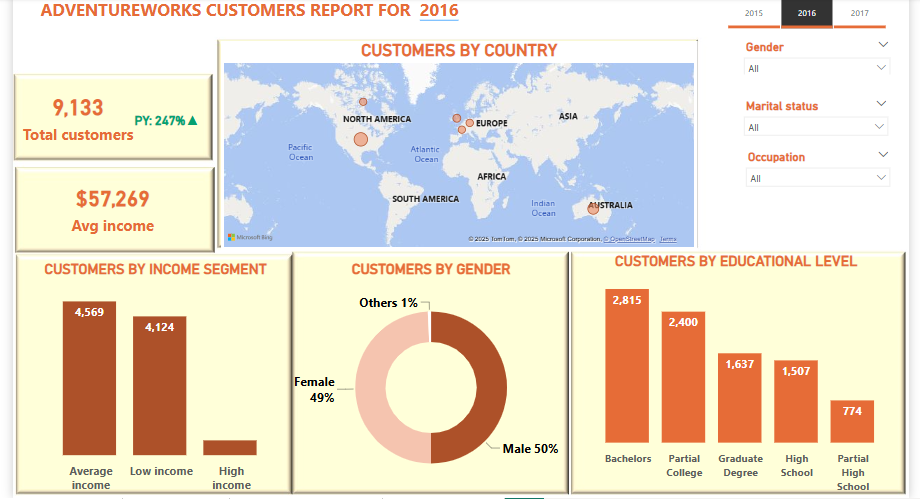

What the dashboard file says about the page in this screenshot:
{"tool":"powerbi","page":{"name":"Customers Report","canvas":[1280,720],"ordinal":0},"visuals":[{"type":"card","fields":{"Values":["DAX Measures.Total customers"]},"box":[0,115.2,185.8,115.2],"z":0},{"type":"card","fields":{"Values":["DAX Measures.Avg income"]},"box":[0,249.1,285.1,110.9],"z":1000},{"type":"slicer","fields":{"Values":["Calendar.Year"]},"box":[995,0,275,56.2],"z":2000},{"type":"card","fields":{"Values":["DAX Measures.Customer growth %"]},"box":[142.6,139.7,154.1,82.1],"z":3000},{"type":"map","title":"CUSTOMERS BY COUNTRY","fields":{"Size":["DAX Measures.Total customers"],"Category":["AdventureWorks_Territories.Country"]},"box":[296.6,67.7,681.1,299.5],"z":4000},{"type":"columnChart","title":"CUSTOMERS BY INCOME SEGMENT","fields":{"Y":["DAX Measures.Total customers"],"Category":["AdventureWorks_Customers.IncomeSegment"]},"box":[10.1,381.6,387.4,338.4],"z":5000},{"type":"columnChart","title":"CUSTOMERS BY EDUCATIONAL LEVEL","fields":{"Category":["AdventureWorks_Customers.EducationalLevel"],"Y":["DAX Measures.Total customers"]},"box":[797.8,370.1,472.3,349.9],"z":6000},{"type":"donutChart","title":"CUSTOMERS BY GENDER","fields":{"Category":["AdventureWorks_Customers.Gender"],"Y":["DAX Measures.Total customers"]},"box":[397.4,381.6,400.3,338.4],"z":7000},{"type":"slicer","fields":{"Values":["AdventureWorks_Customers.Gender"]},"box":[1033.9,60.5,229,54.7],"z":8000},{"type":"slicer","fields":{"Values":["AdventureWorks_Customers.MaritalStatus"]},"box":[1033.9,144,226.1,57.6],"z":9000},{"type":"slicer","fields":{"Values":["AdventureWorks_Customers.Occupation"]},"box":[1036.8,217.4,226.1,63.4],"z":10000},{"type":"textbox","box":[34.6,0,727.2,56.2],"z":11000}]}

Visuals, with their boxes on the page's 1280x720 design canvas (x1, y1, x2, y2). These are canvas units, not pixel positions in the 920x499 screenshot, which may show the page scaled, cropped or inside an application window:
card - DAX Measures.Total customers: 0/115/186/230
card - DAX Measures.Avg income: 0/249/285/360
slicer - Calendar.Year: 995/0/1270/56
card - DAX Measures.Customer growth %: 143/140/297/222
"CUSTOMERS BY COUNTRY" map: 297/68/978/367
"CUSTOMERS BY INCOME SEGMENT" columnChart: 10/382/398/720
"CUSTOMERS BY EDUCATIONAL LEVEL" columnChart: 798/370/1270/720
"CUSTOMERS BY GENDER" donutChart: 397/382/798/720
slicer - AdventureWorks_Customers.Gender: 1034/60/1263/115
slicer - AdventureWorks_Customers.MaritalStatus: 1034/144/1260/202
slicer - AdventureWorks_Customers.Occupation: 1037/217/1263/281
textbox: 35/0/762/56
